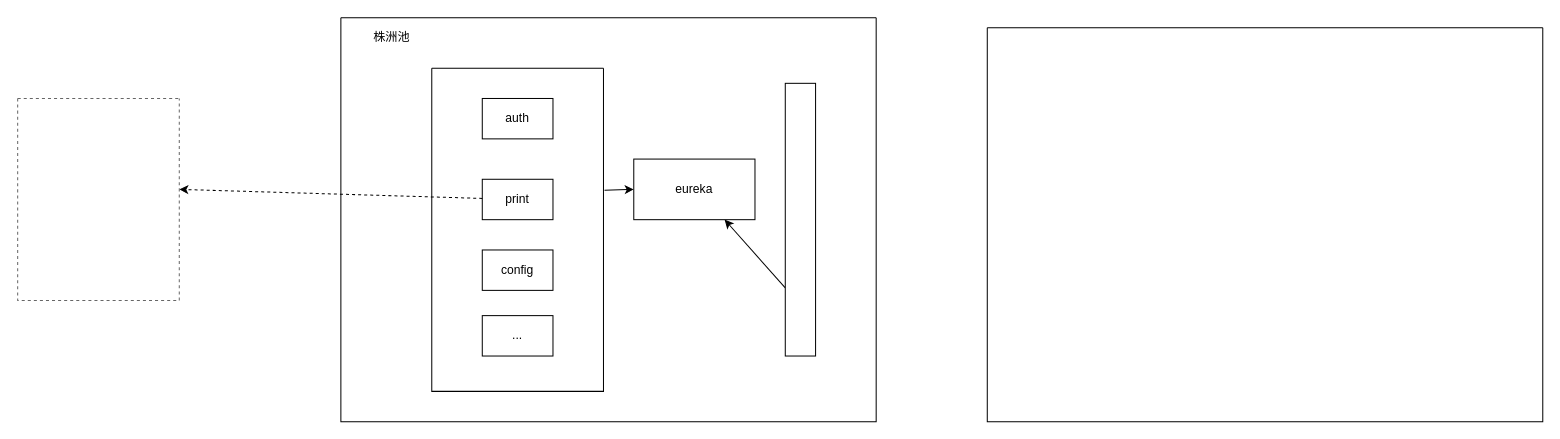
Some shapes in this 1560 by 439 pixel diagram are drawn without their labels. Here are the shapes that lost their labels. From the top down, the centre of each, then its label:
At point 98,198: "厂商服务器".
At point 800,219: "zuul网关".
At point 1264,224: "南基池".
